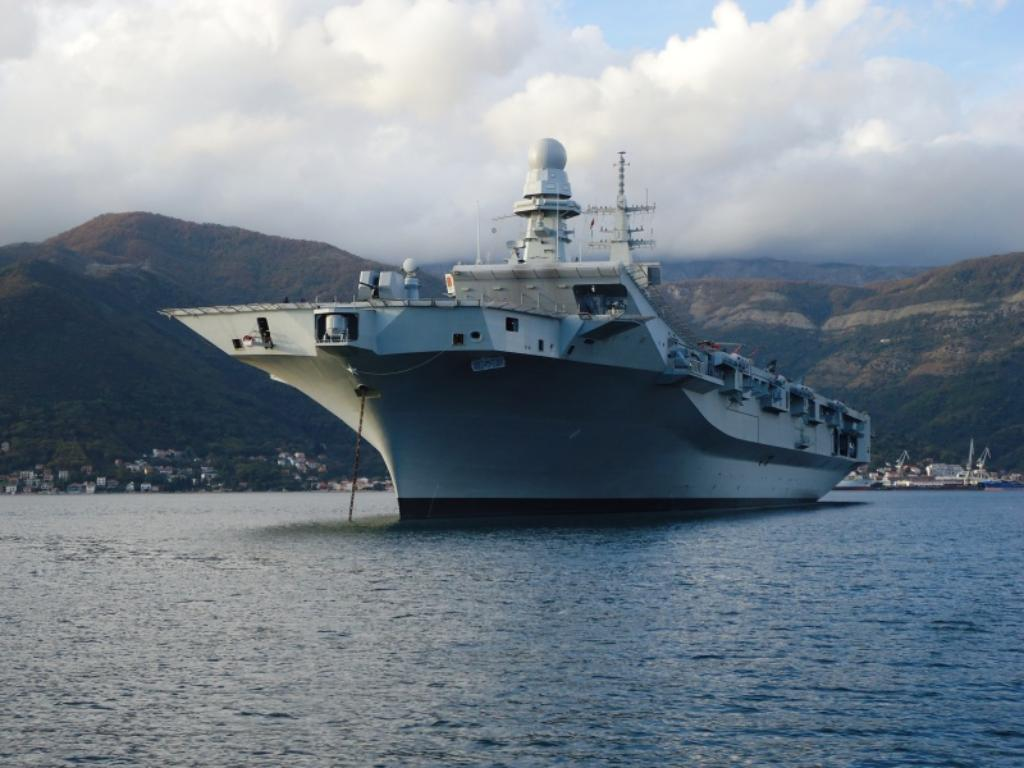Warship: (156, 132, 874, 530)
